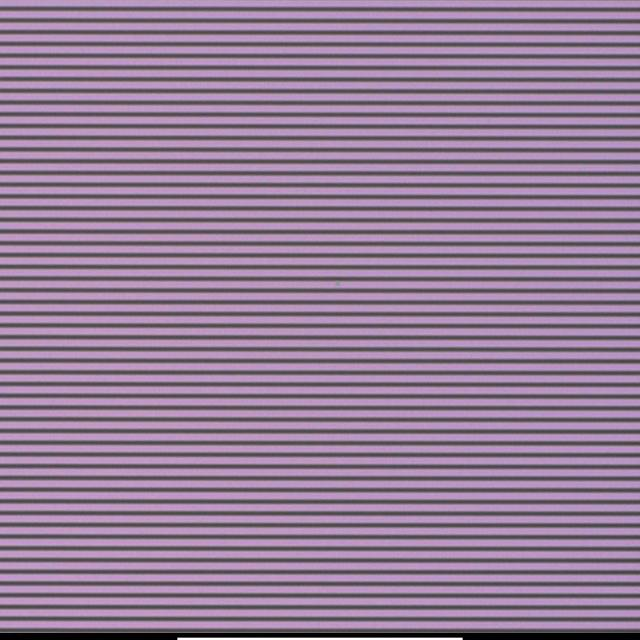03_intrusion: (331, 278, 347, 290)
